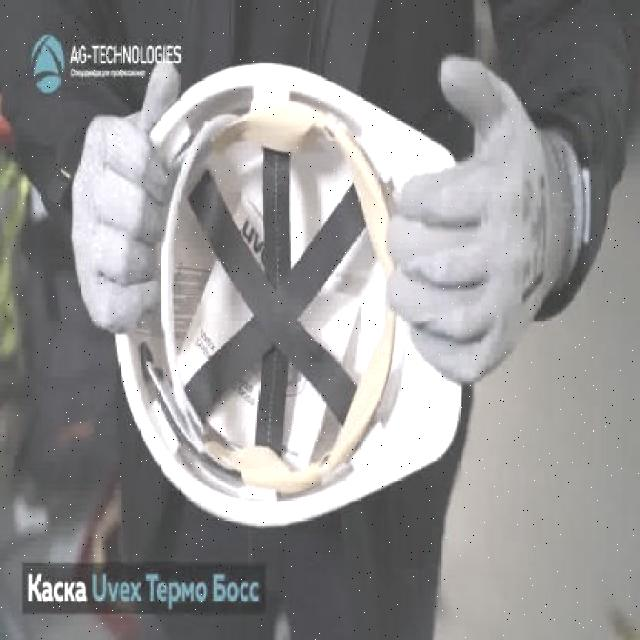Gloves: (382, 54, 586, 386), (72, 48, 182, 340)
Helmet: (113, 58, 464, 534)
